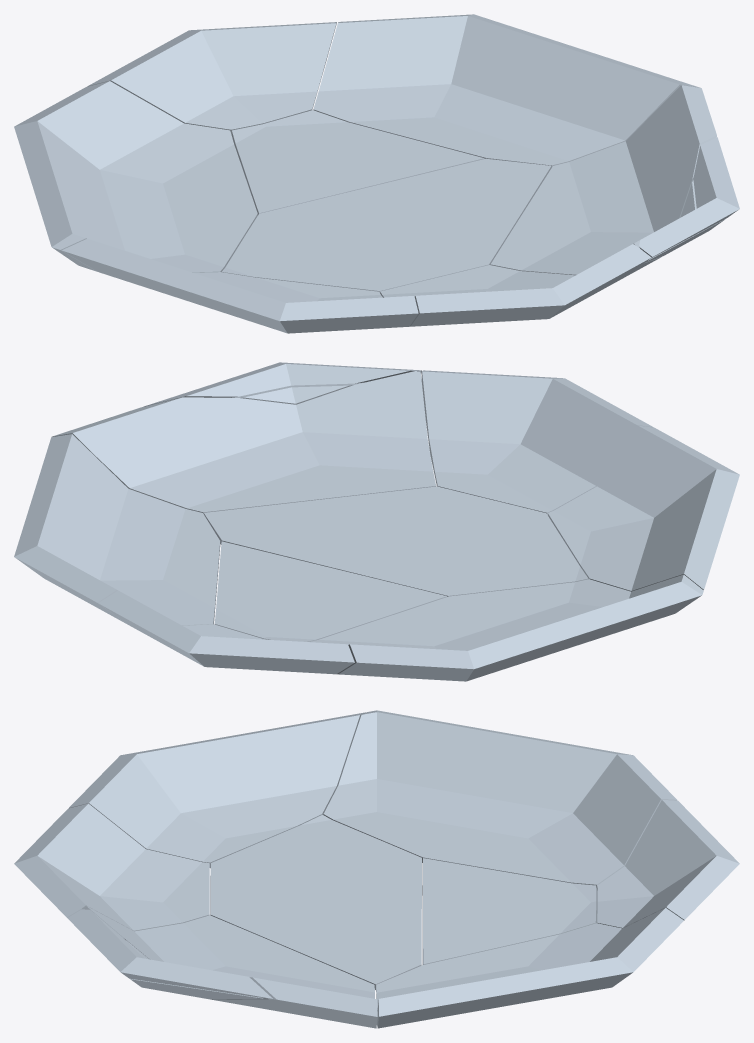
The model's file is assiette_fracture.fbx.
3 renders of one model, top to bottom at view 1: azimuth 30°, elevation 25°; view 2: azimuth 150°, elevation 25°; view 3: azimuth 270°, elevation 25°, orthographic. The views are drawn at different scales.
Parts seen in each view (by area): view 1: Assiette_cell.005, Assiette_cell, Assiette_cell.009, Assiette_cell.001, Assiette_cell.006, Assiette_cell.007, Assiette_cell.008, Assiette_cell.004, Assiette_cell.003, Assiette_cell.002; view 2: Assiette_cell.001, Assiette_cell.009, Assiette_cell.005, Assiette_cell.004, Assiette_cell, Assiette_cell.008, Assiette_cell.007, Assiette_cell.006, Assiette_cell.003, Assiette_cell.002; view 3: Assiette_cell, Assiette_cell.008, Assiette_cell.009, Assiette_cell.005, Assiette_cell.004, Assiette_cell.007, Assiette_cell.001, Assiette_cell.006, Assiette_cell.003, Assiette_cell.002.
Part boxes in pixels (<box>): Assiette_cell.005: <box>313,14,700,167</box>; Assiette_cell: <box>14,81,257,272</box>; Assiette_cell.009: <box>222,158,551,292</box>; Assiette_cell.001: <box>490,85,716,275</box>; Assiette_cell.006: <box>87,22,336,134</box>; Assiette_cell.007: <box>231,110,484,215</box>; Assiette_cell.008: <box>62,238,418,333</box>; Assiette_cell.004: <box>380,244,651,326</box>; Assiette_cell.003: <box>639,137,739,258</box>; Assiette_cell.002: <box>645,180,725,262</box>; Assiette_cell.001: <box>52,371,436,514</box>; Assiette_cell.009: <box>204,486,588,596</box>; Assiette_cell.005: <box>14,434,220,625</box>; Assiette_cell.004: <box>421,370,653,515</box>; Assiette_cell: <box>310,574,703,681</box>; Assiette_cell.008: <box>548,425,739,591</box>; Assiette_cell.007: <box>214,541,447,641</box>; Assiette_cell.006: <box>98,590,354,674</box>; Assiette_cell.003: <box>144,362,421,406</box>; Assiette_cell.002: <box>231,382,363,404</box>; Assiette_cell: <box>323,710,677,890</box>; Assiette_cell.008: <box>69,712,365,867</box>; Assiette_cell.009: <box>210,814,421,989</box>; Assiette_cell.005: <box>376,907,683,1028</box>; Assiette_cell.004: <box>14,803,209,931</box>; Assiette_cell.007: <box>422,858,597,964</box>; Assiette_cell.001: <box>84,906,377,1028</box>; Assiette_cell.006: <box>597,800,739,928</box>; Assiette_cell.003: <box>67,909,272,998</box>; Assiette_cell.002: <box>126,940,263,999</box>.
Bounding box in the file's own units: 107 × 8.53 × 107.
